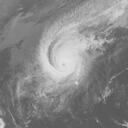cyclone: (32, 1, 112, 94)
